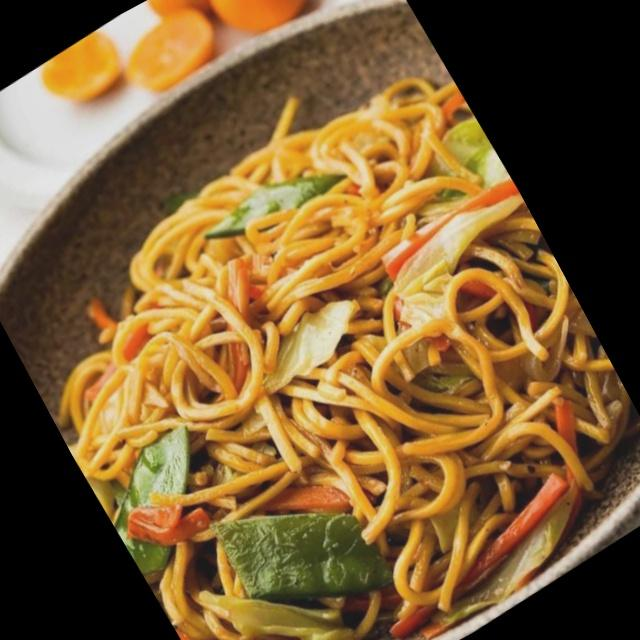pancit bihon: (73, 84, 639, 639)
